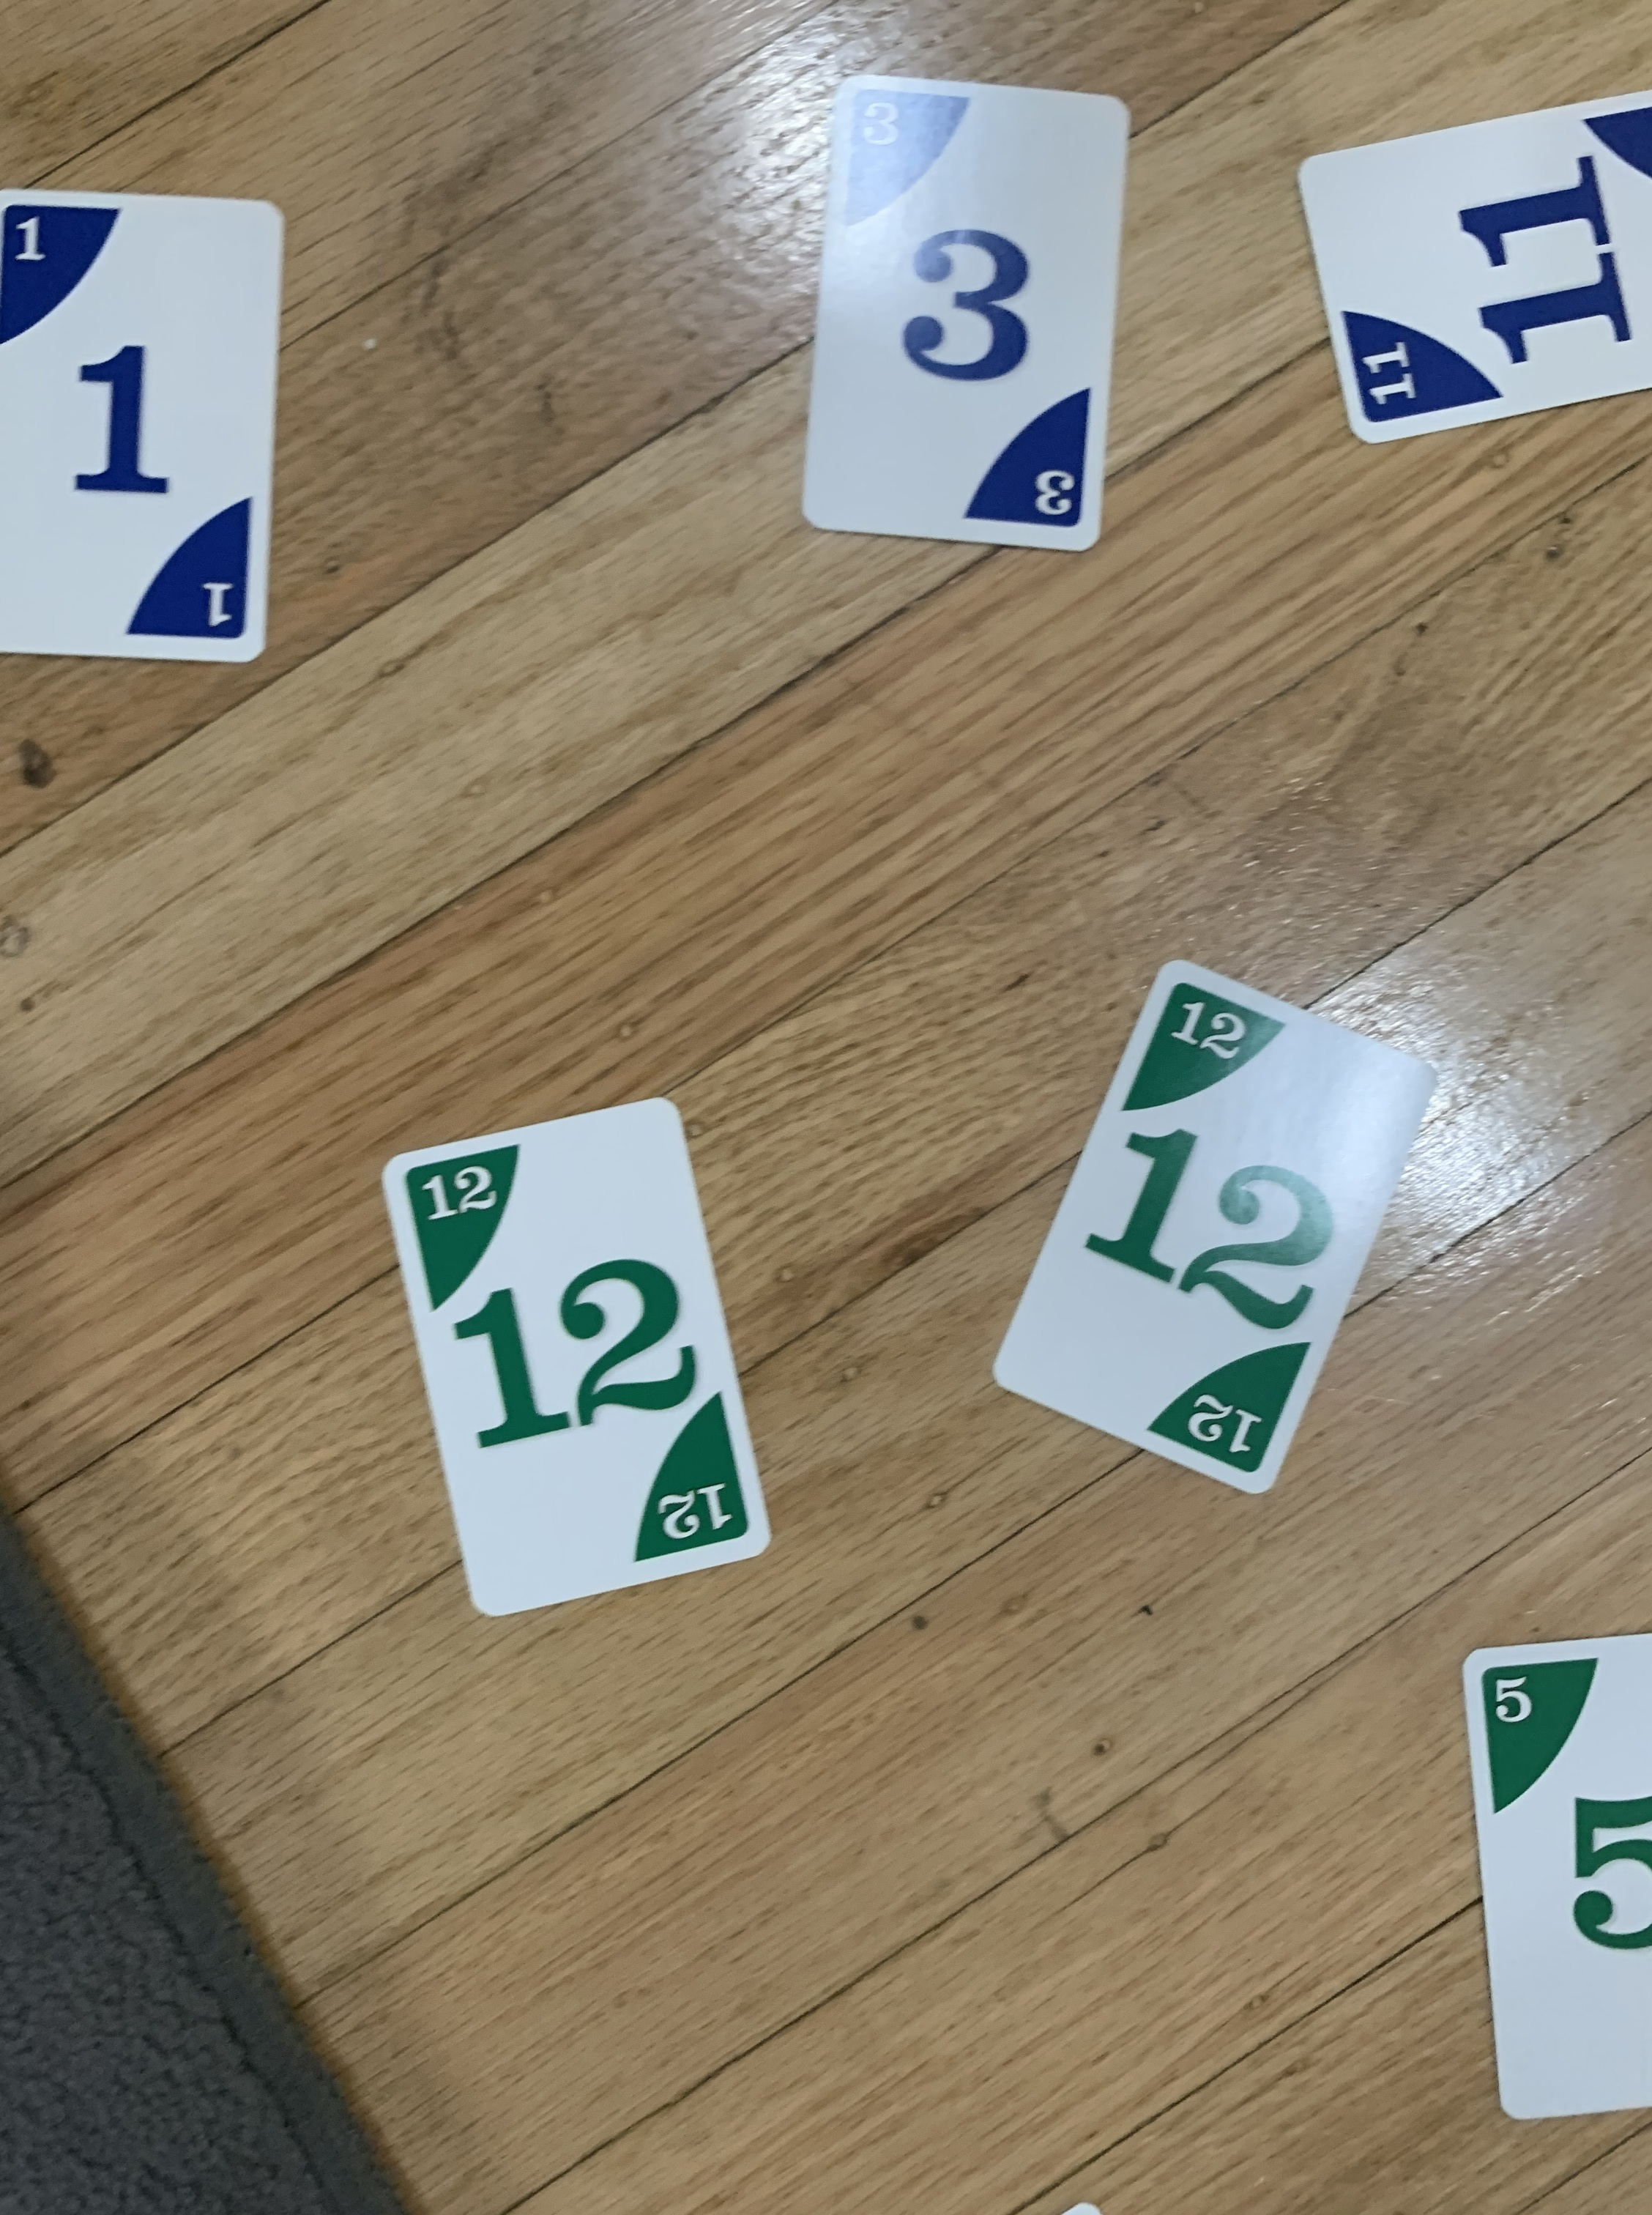one: (0, 167, 292, 686)
three: (786, 71, 1135, 559)
twelve: (980, 948, 1452, 1502), (361, 1087, 777, 1620)
